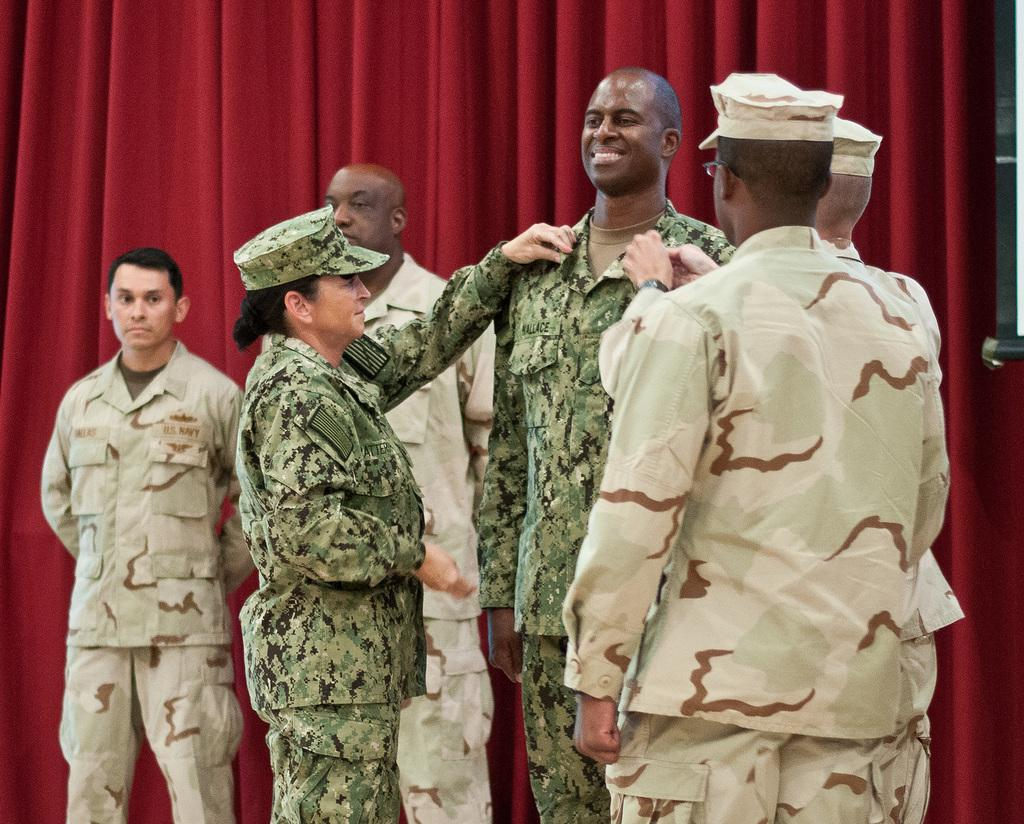Hat: (232, 205, 392, 294), (702, 68, 844, 152), (826, 115, 880, 175)
